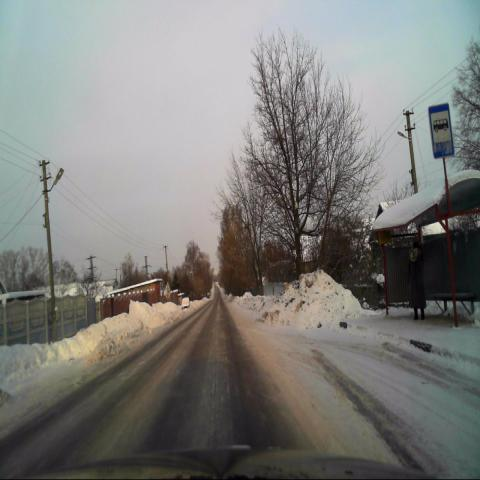5_16: (429, 102, 454, 158)
